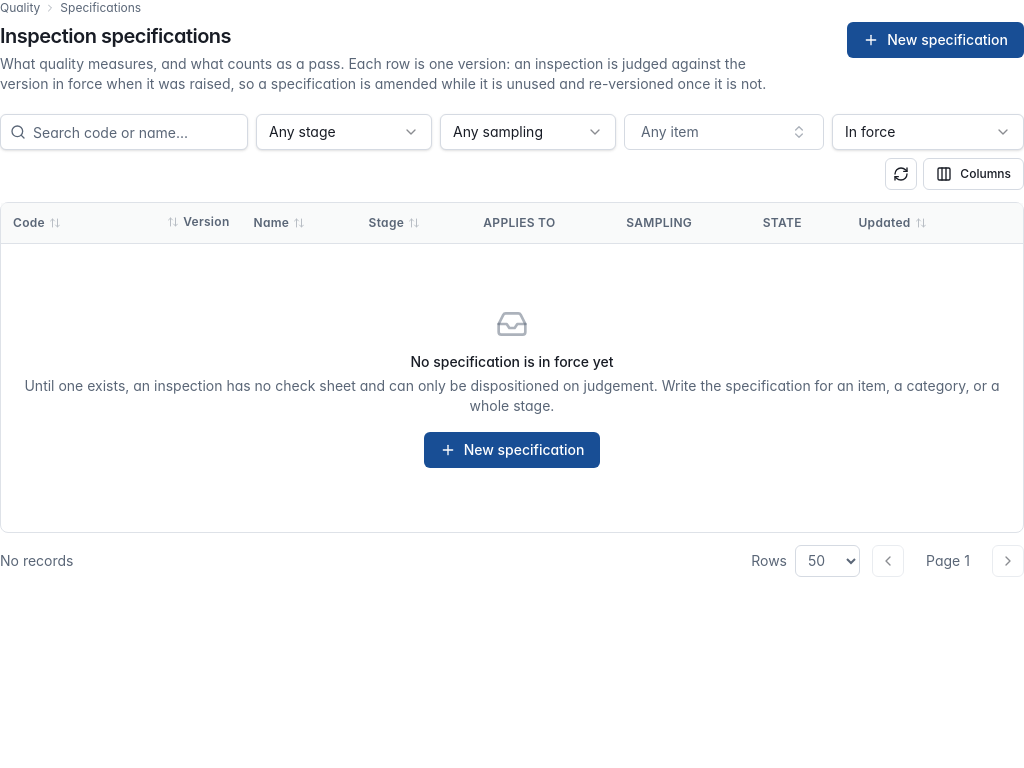
Test case: creating a specification › refuses to post an item-scoped specification with no item
The image size is (1024, 768).
Click the button "New specification" in the row of "Inspection specifications": (936, 40) [847,22,1023,58]
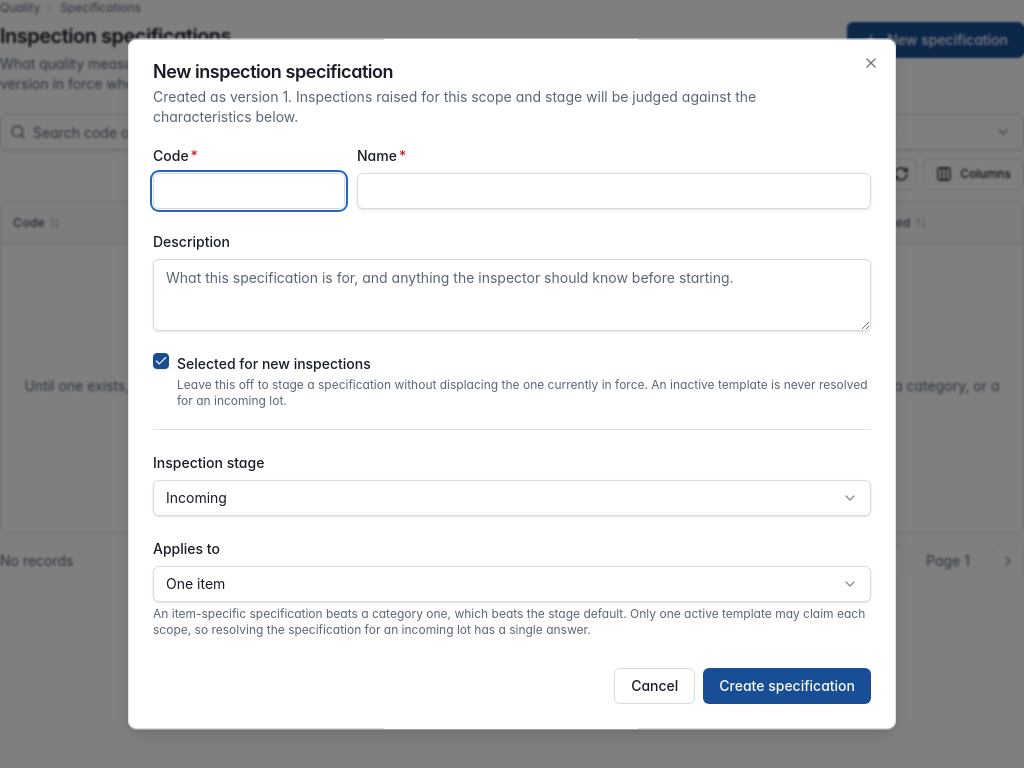
In the field labelled "Code": (249, 191) [153,173,345,209], type "QC-NEW"
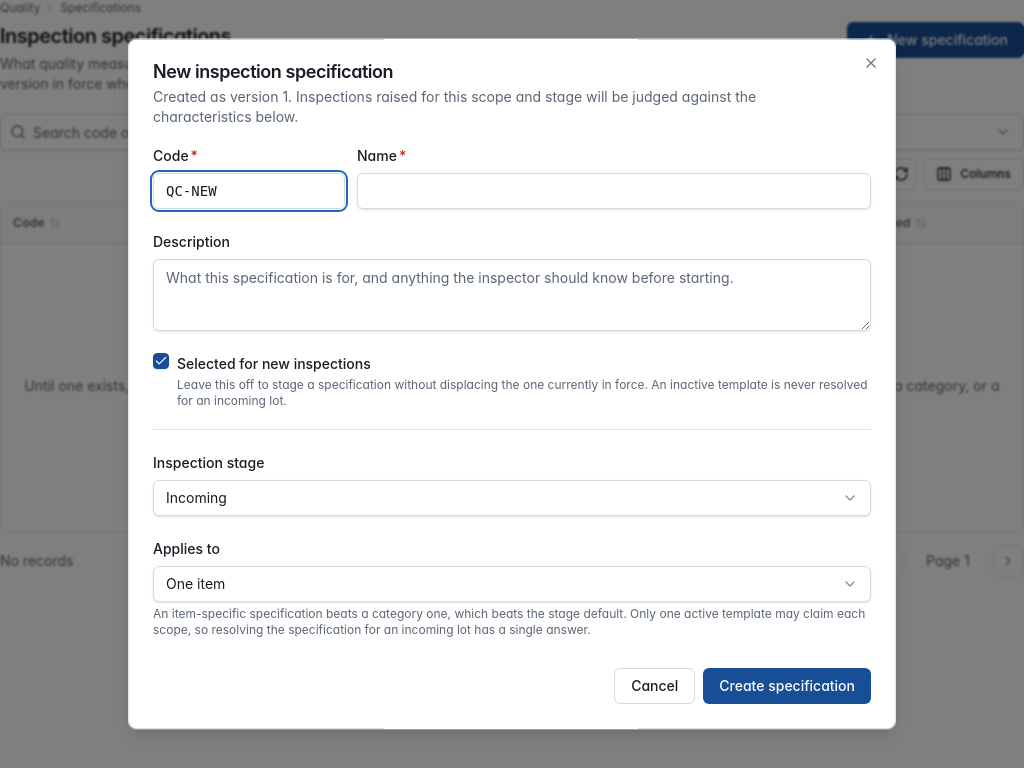
In the field labelled "Name": (614, 191) [357,173,871,209], type "New check"
(page scrolled)
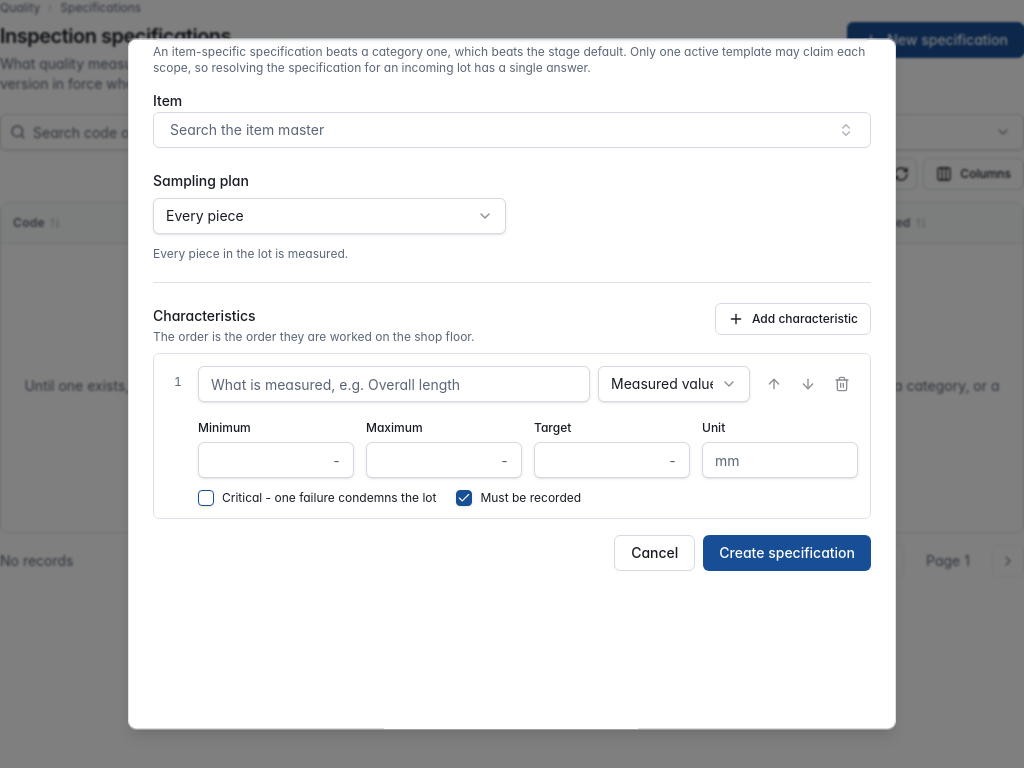
In the field named "Name of characteristic 1": (394, 384) [198,366,590,402], type "Overall length"
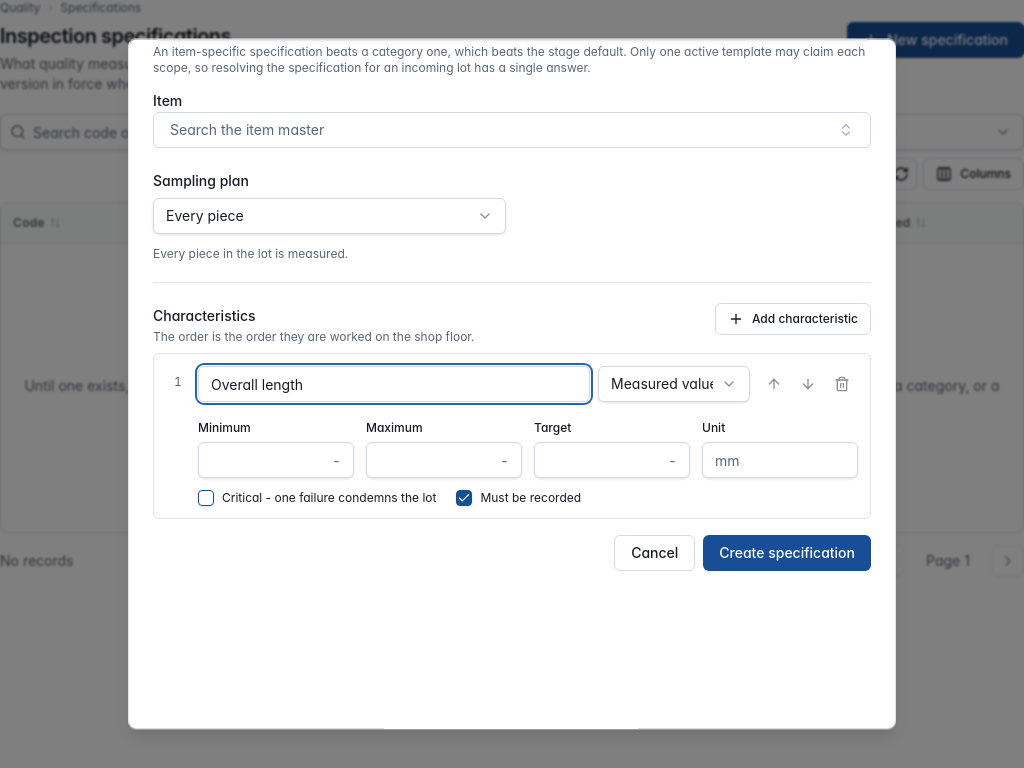
Click the button "Create specification": (787, 554) [703,536,871,572]
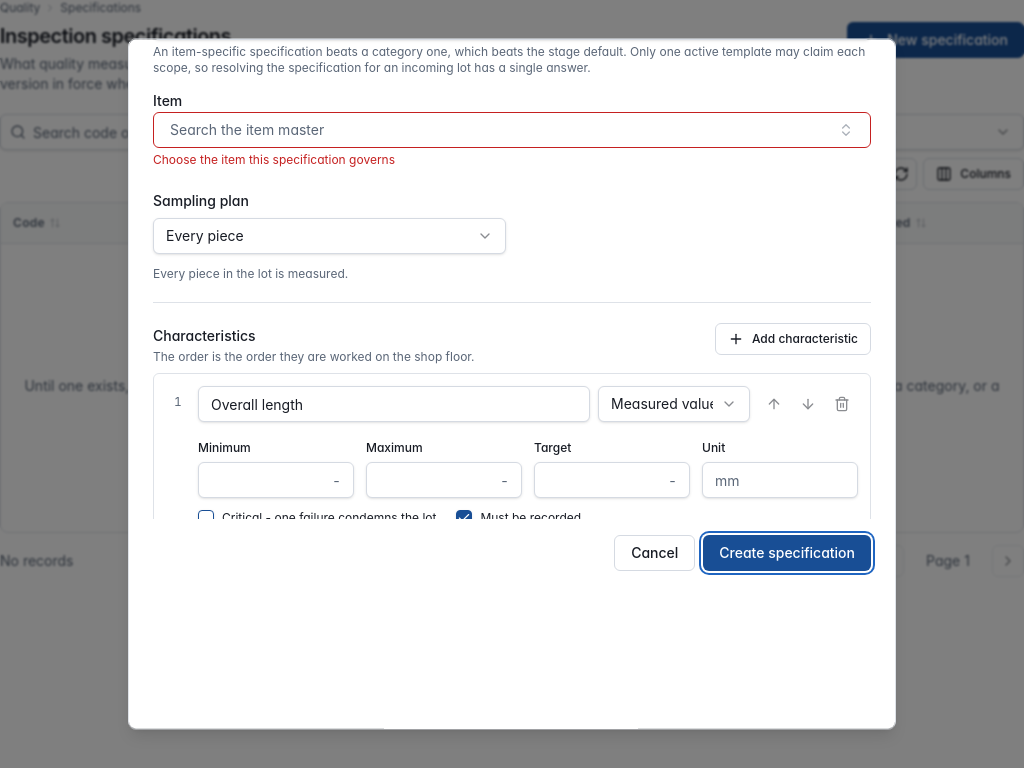
Expected: the text "Choose the item this specification governs" is shown, [153,152,395,167]
